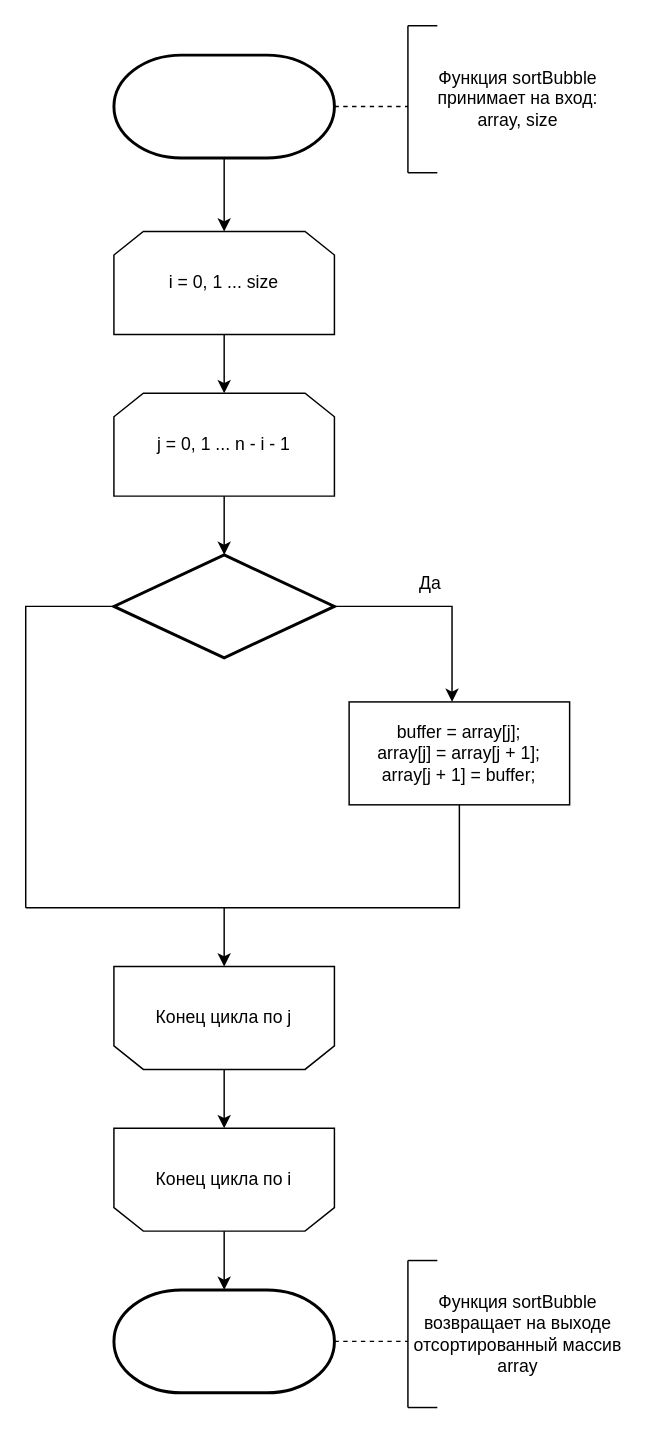
Image size: 654x1435. Some labels were removed from this diagram. Each missing label, with the centre of its shape:
"array[j] > array[j + 1]" belongs at point 223,606.
"Конец sortBubble" belongs at point 223,1341.
"Начало sortBubble" belongs at point 223,106.
